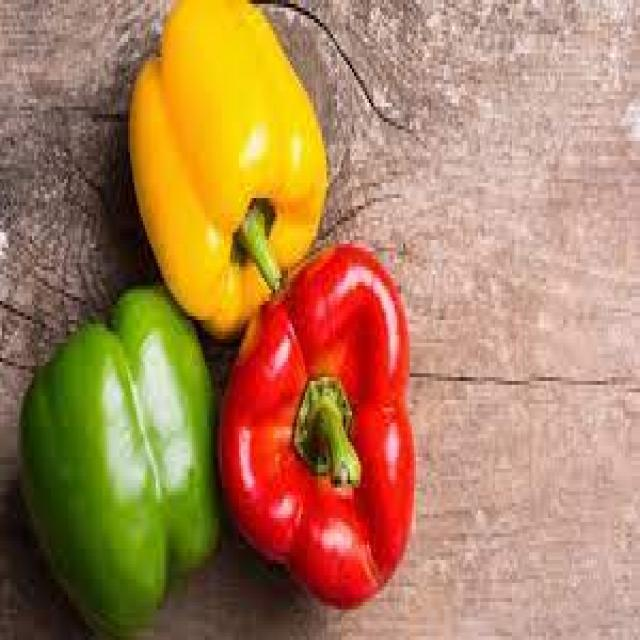Pepper: (215, 244, 417, 612), (19, 284, 224, 640), (127, 0, 329, 345)
